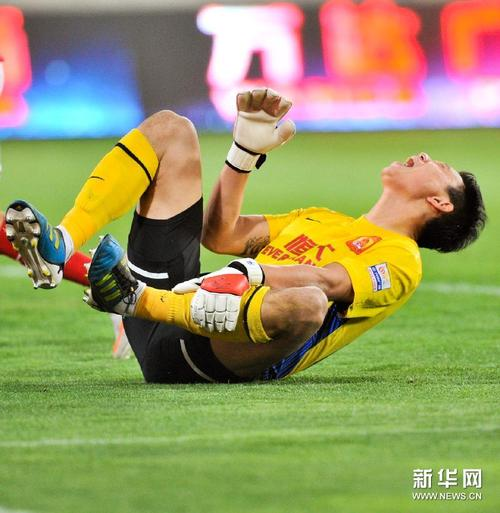fall: (13, 69, 490, 380)
